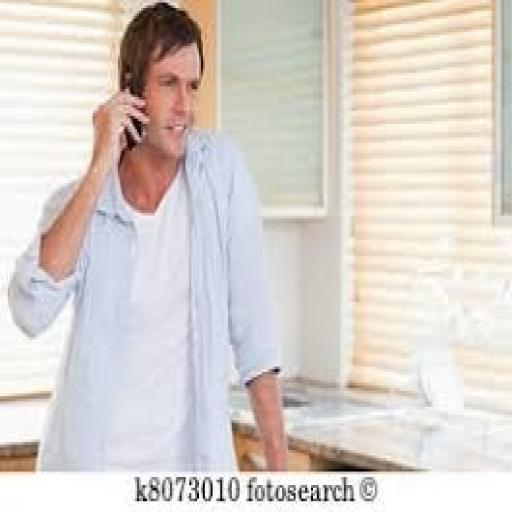calling: (6, 0, 290, 472)
